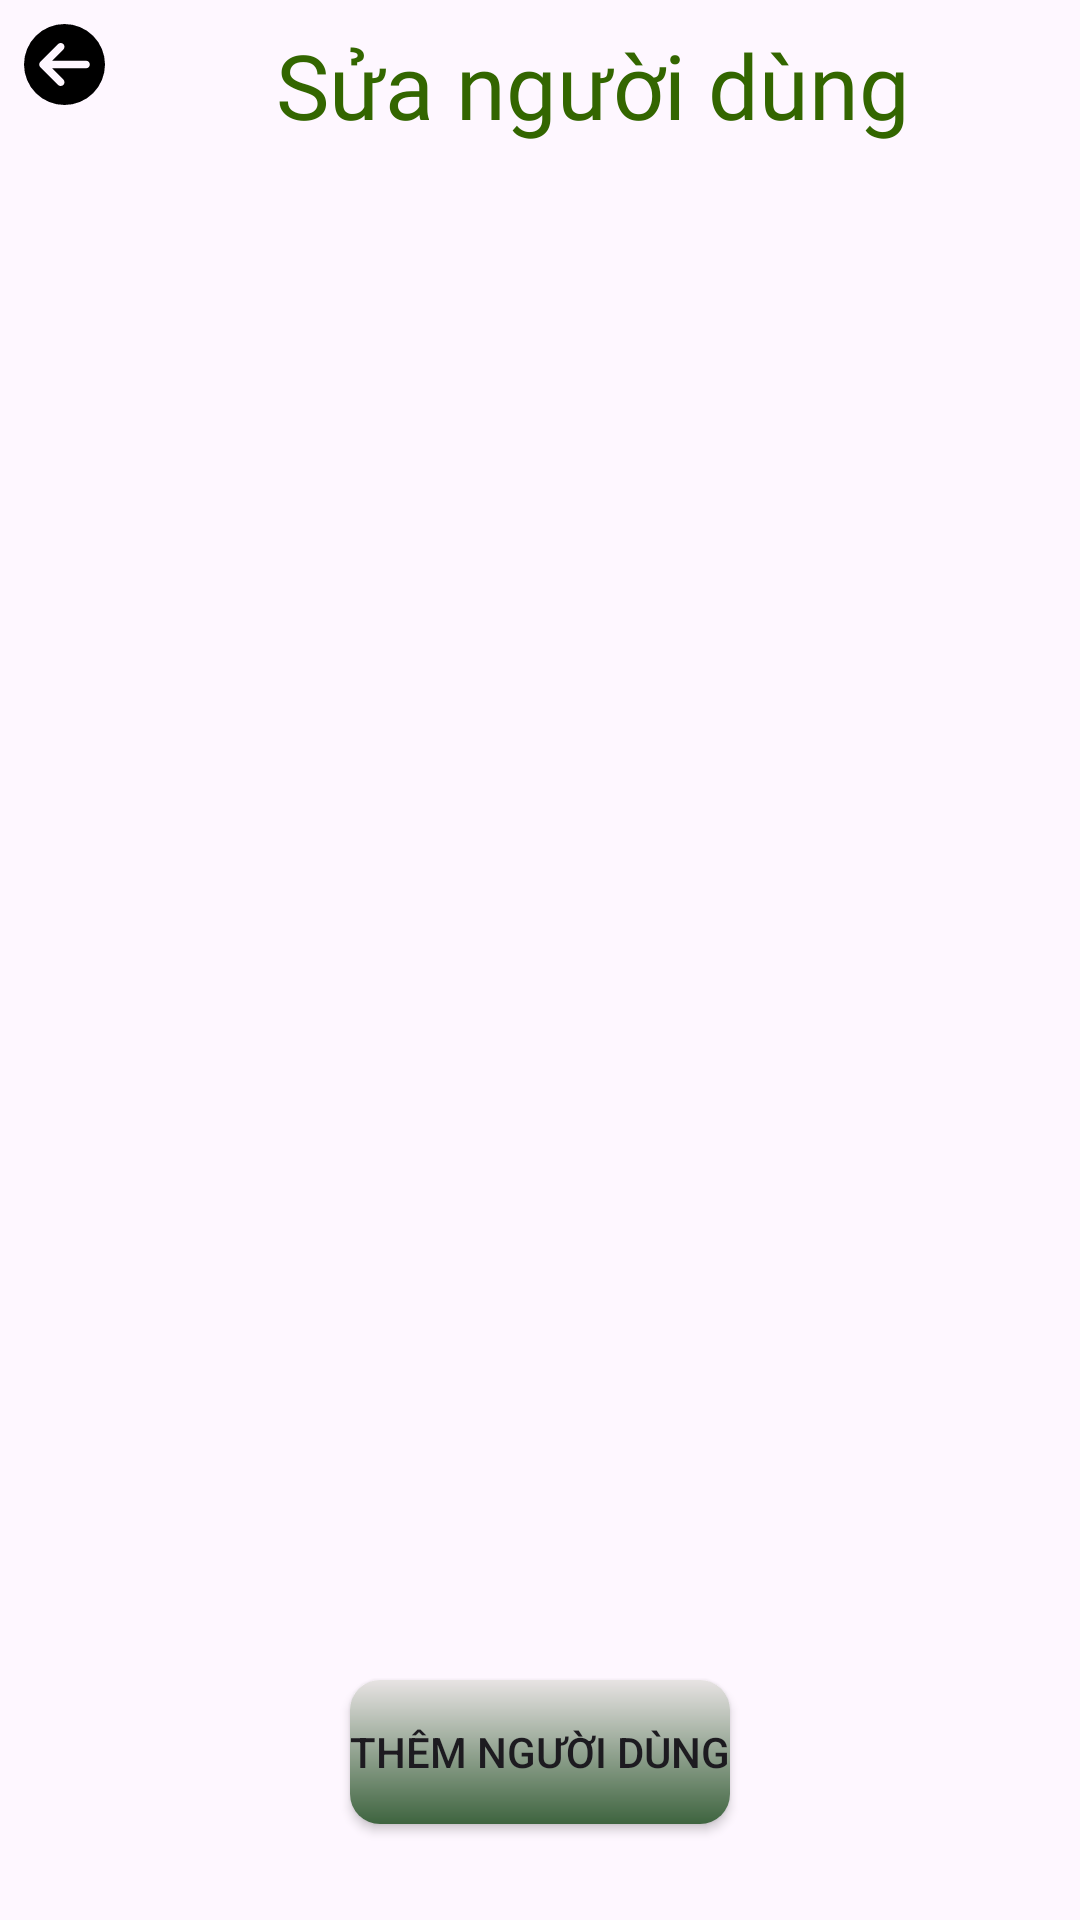

Icons on this 1080×1920 Android screen, each with its box as box(x1, y1, x2, y2):
circle arrow left: box(24, 24, 105, 105)
